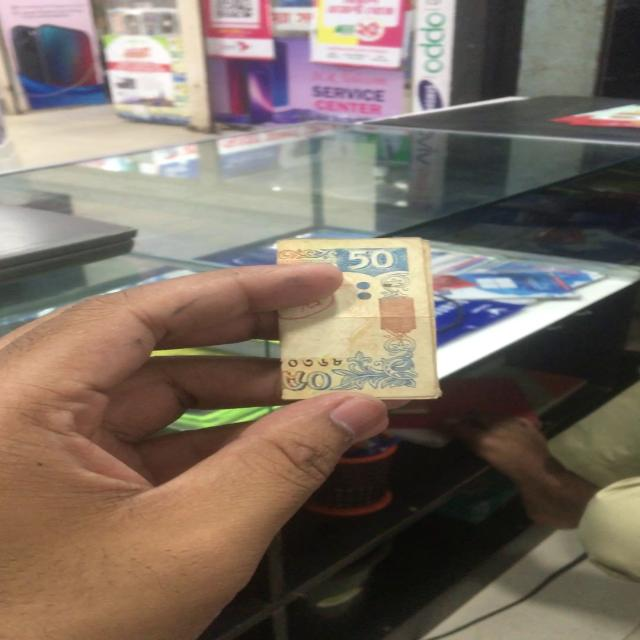Taka: (277, 242, 436, 392)
